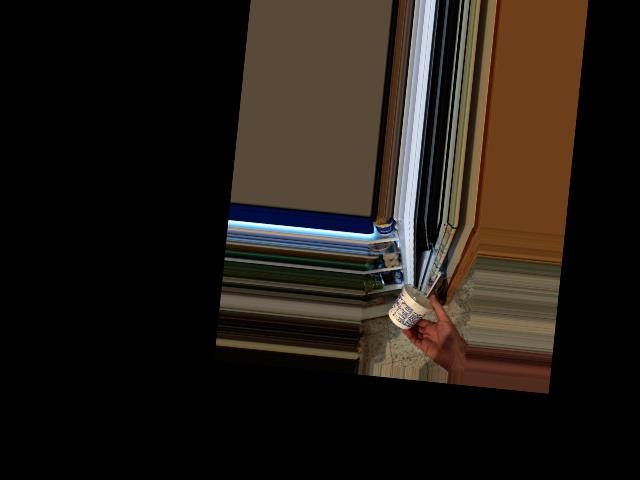cotage: (391, 285, 438, 334)
